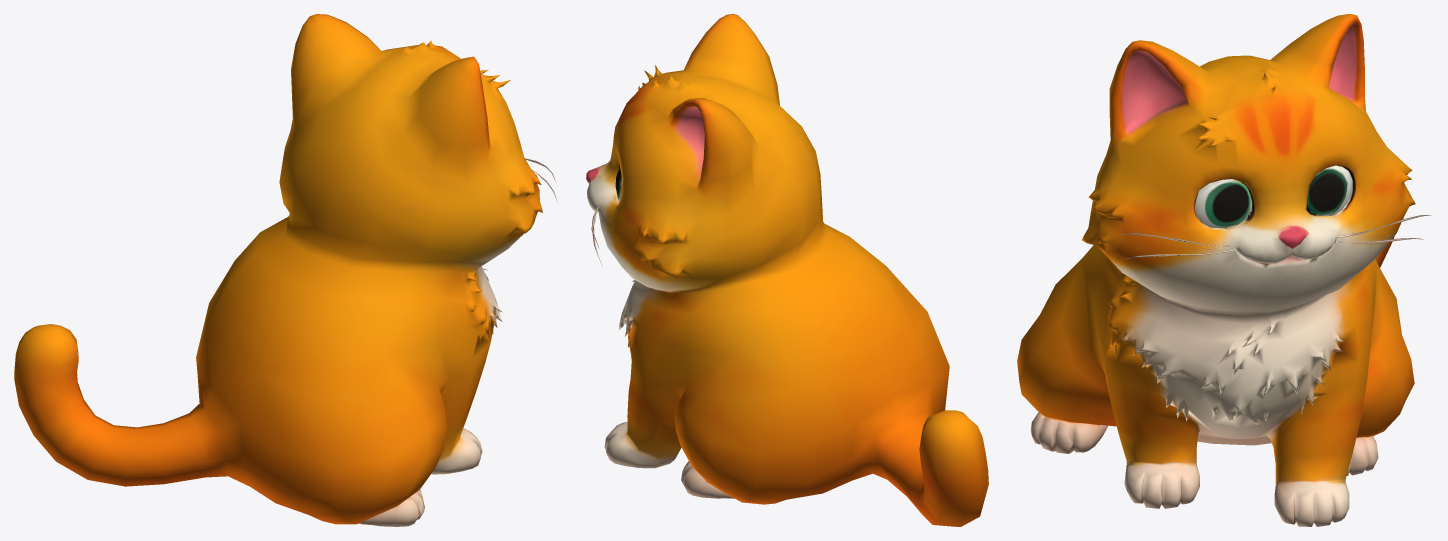
Rendered from npc-cat.glb.
The picture shows the model from 3 angles, left to right: view 1: azimuth 30°, elevation 25°; view 2: azimuth 150°, elevation 25°; view 3: azimuth 270°, elevation 25°; orthographic projection. The views are drawn at different scales.
Visible parts, largest first — view 1: tripo_node_726cb893-bc81-4849-876d-02a9ce356ba5; view 2: tripo_node_726cb893-bc81-4849-876d-02a9ce356ba5; view 3: tripo_node_726cb893-bc81-4849-876d-02a9ce356ba5.
Boxes of the visible parts, x1=… form: tripo_node_726cb893-bc81-4849-876d-02a9ce356ba5: x1=14, y1=14, x2=556, y2=526; tripo_node_726cb893-bc81-4849-876d-02a9ce356ba5: x1=586, y1=14, x2=988, y2=526; tripo_node_726cb893-bc81-4849-876d-02a9ce356ba5: x1=1017, y1=14, x2=1431, y2=526.
Bounding box in the file's own units: 0.998 × 0.8848 × 0.7207.
Materials: 1 (1 with a texture image).
